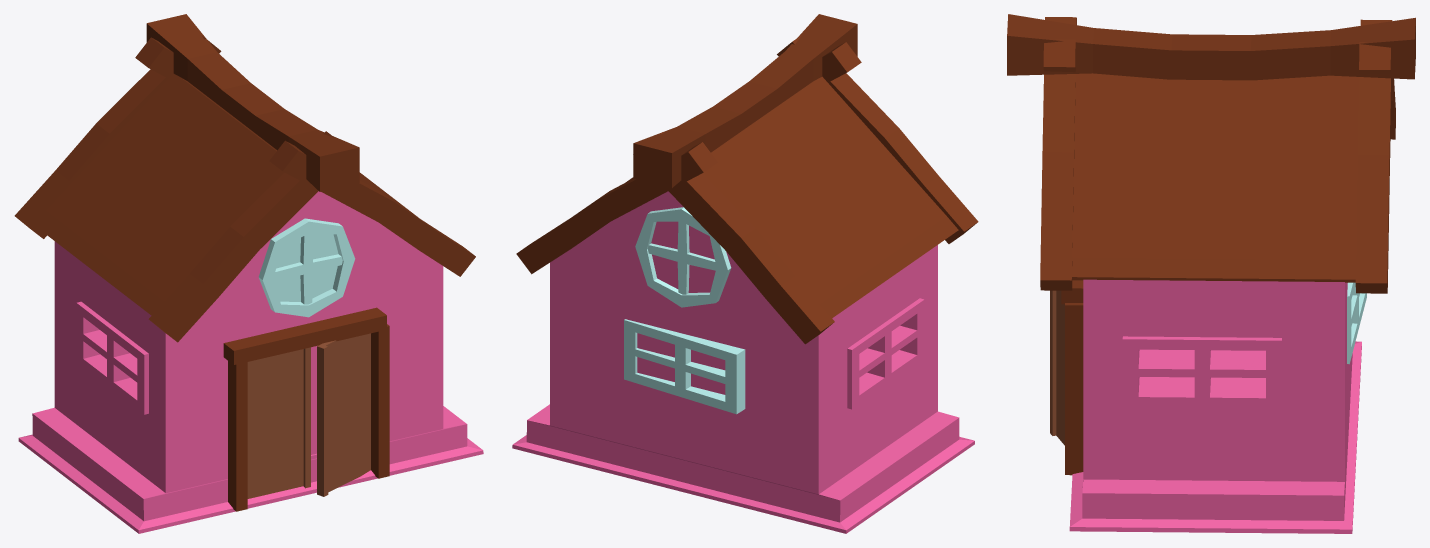
The model's file is Casa_B.fbx.
3 renders of one model, left to right at view 1: azimuth 30°, elevation 25°; view 2: azimuth 150°, elevation 25°; view 3: azimuth 270°, elevation 25°, orthographic. The views are drawn at different scales.
Visible parts, largest first — view 1: Casa_Rosa; view 2: Casa_Rosa; view 3: Casa_Rosa.
Boxes of the visible parts, x1,y1,x2,y2 form: Casa_Rosa: (14, 14, 483, 533); Casa_Rosa: (512, 14, 978, 533); Casa_Rosa: (1007, 14, 1415, 533).
Bounding box in the file's own units: 228 × 231 × 207.
